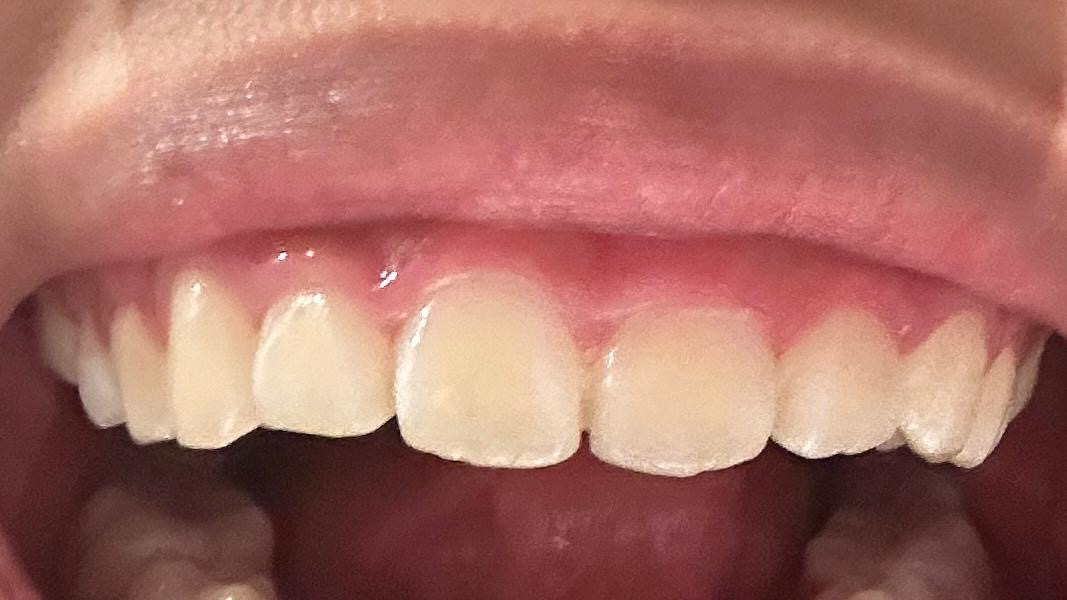teeth: (402, 275, 571, 472), (592, 309, 770, 471), (253, 295, 392, 433), (781, 312, 899, 456), (165, 270, 252, 445), (905, 311, 986, 457), (112, 303, 170, 443), (962, 340, 1013, 468), (76, 305, 125, 424), (32, 298, 80, 387), (1014, 335, 1043, 418)
